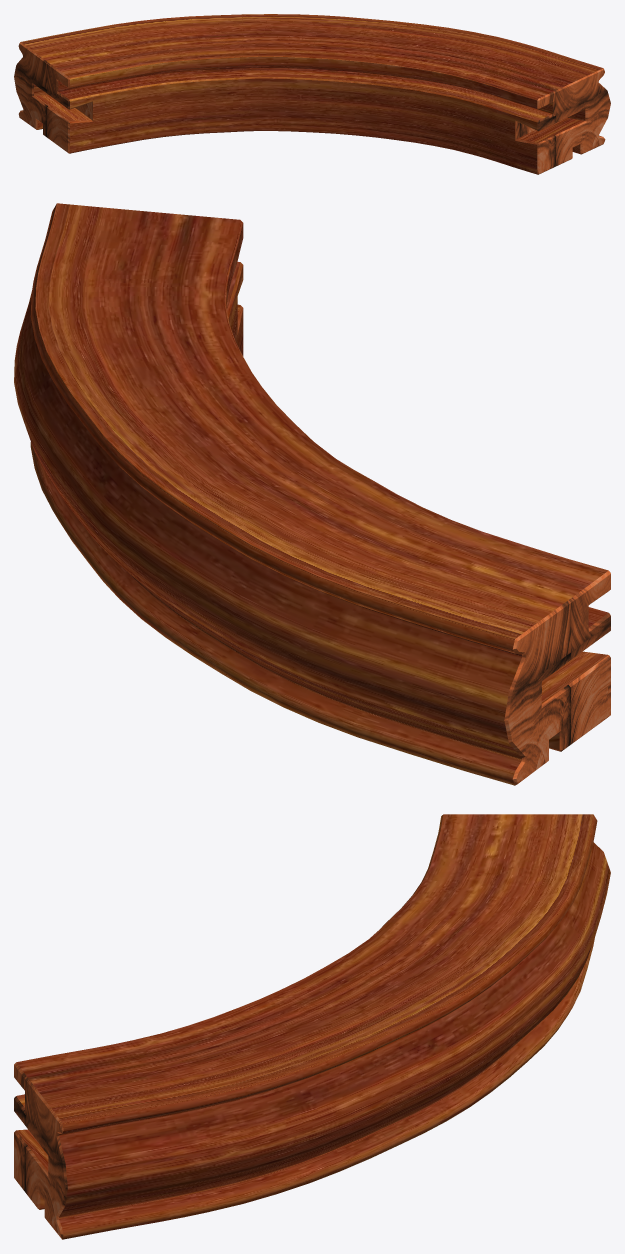
Rendered from YuanDeng_J_D_biankuang_007.FBX.
3 renders of one model, top to bottom at view 1: azimuth 30°, elevation 25°; view 2: azimuth 150°, elevation 25°; view 3: azimuth 270°, elevation 25°, orthographic. The views are drawn at different scales.
Visible parts, largest first — view 1: YuanDeng_J_D_biankuang_007; view 2: YuanDeng_J_D_biankuang_007; view 3: YuanDeng_J_D_biankuang_007.
Part boxes in pixels (x1=…): YuanDeng_J_D_biankuang_007: x1=14, y1=14, x2=610, y2=174; YuanDeng_J_D_biankuang_007: x1=14, y1=203, x2=610, y2=785; YuanDeng_J_D_biankuang_007: x1=14, y1=814, x2=610, y2=1239.
Bounding box in the file's own units: 20.27 × 3.58 × 16.17.
Materials: 2 (2 with a texture image).
